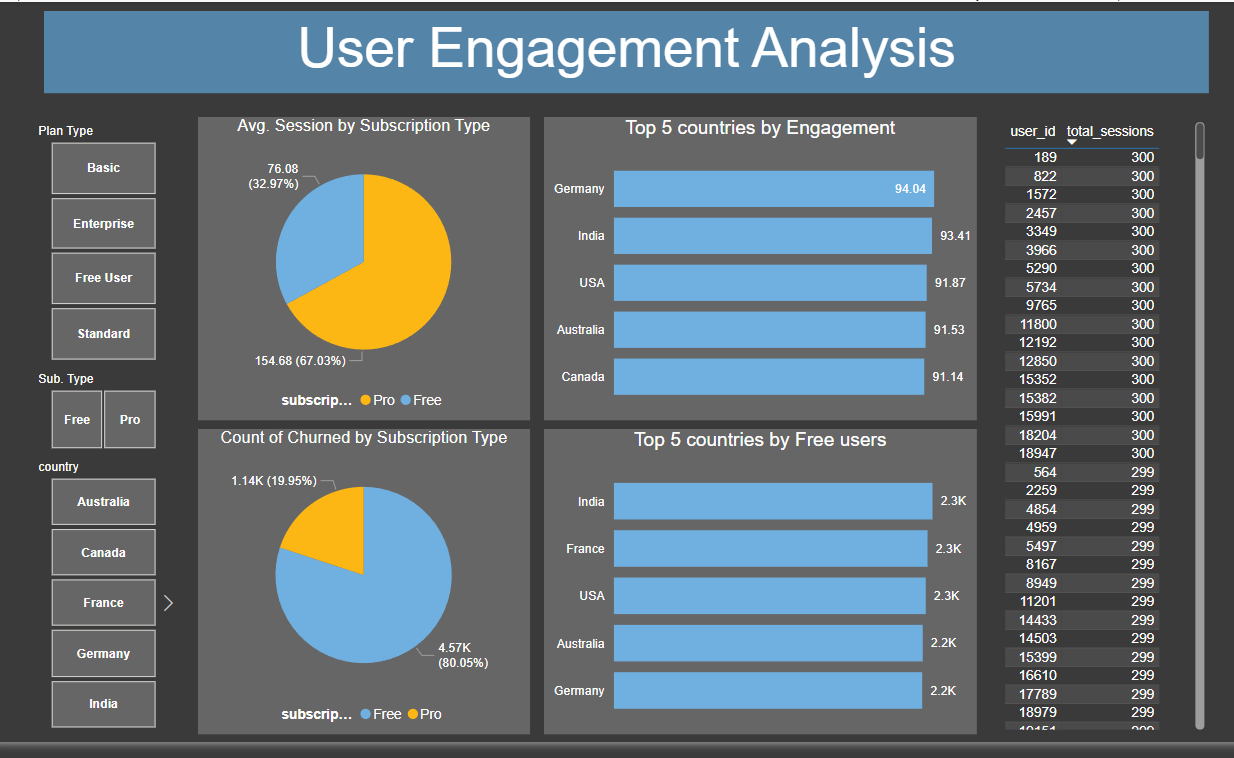

What the dashboard file says about the page in this screenshot:
{"tool":"powerbi","page":{"name":"User Eng. Analysis","canvas":[1280,720],"ordinal":1},"visuals":[{"type":"pieChart","title":"Avg. Session by Subscription Type","fields":{"Category":["wppool_growth_data_sample_20k.subscription_type"],"Y":["Avg(wppool_growth_data_sample_20k.total_sessions)"]},"box":[202.8,111.9,322.7,294.8],"z":0},{"type":"tableEx","fields":{"Values":["wppool_growth_data_sample_20k.user_id","wppool_growth_data_sample_20k.total_sessions"]},"box":[982.2,111.9,204.8,600.5],"z":1000},{"type":"clusteredBarChart","title":"Top 5 countries by Engagement","fields":{"Category":["wppool_growth_data_sample_20k.country"],"Y":["Avg(wppool_growth_data_sample_20k.total_sessions)"]},"box":[539.6,111.9,420.7,294.8],"z":2000},{"type":"pieChart","title":"Count of Churned by Subscription Type","fields":{"Y":["CountNonNull(wppool_growth_data_sample_20k.churned)"],"Category":["wppool_growth_data_sample_20k.subscription_type"]},"box":[202.8,415.7,322.7,296.8],"z":3000},{"type":"clusteredBarChart","title":"Top 5 countries by Free users","fields":{"Category":["wppool_growth_data_sample_20k.country"],"Y":["CountNonNull(wppool_growth_data_sample_20k.subscription_type)"]},"box":[539.6,415.7,420.7,296.8],"z":4000},{"type":"textbox","box":[54,9,1133.1,79.9],"z":5000},{"type":"slicer","fields":{"Values":["wppool_growth_data_sample_20k.plan_type"]},"box":[35,113.9,150.9,240.8],"z":6000},{"type":"slicer","fields":{"Values":["wppool_growth_data_sample_20k.subscription_type"]},"box":[35,354.7,150.9,85.9],"z":7000},{"type":"slicer","fields":{"Values":["wppool_growth_data_sample_20k.country"]},"box":[35,440.7,150.9,271.8],"z":8000}]}

Visuals, with their boxes on the page's 1280x720 design canvas (x1, y1, x2, y2). These are canvas units, not pixel positions in the 1234x758 screenshot, which may show the page scaled, cropped or inside an application window:
"Avg. Session by Subscription Type" pieChart: BBox(203, 112, 526, 407)
tableEx - wppool_growth_data_sample_20k.user_id x wppool_growth_data_sample_20k.total_sessions: BBox(982, 112, 1187, 712)
"Top 5 countries by Engagement" clusteredBarChart: BBox(540, 112, 960, 407)
"Count of Churned by Subscription Type" pieChart: BBox(203, 416, 526, 712)
"Top 5 countries by Free users" clusteredBarChart: BBox(540, 416, 960, 712)
textbox: BBox(54, 9, 1187, 89)
slicer - wppool_growth_data_sample_20k.plan_type: BBox(35, 114, 186, 355)
slicer - wppool_growth_data_sample_20k.subscription_type: BBox(35, 355, 186, 441)
slicer - wppool_growth_data_sample_20k.country: BBox(35, 441, 186, 712)
